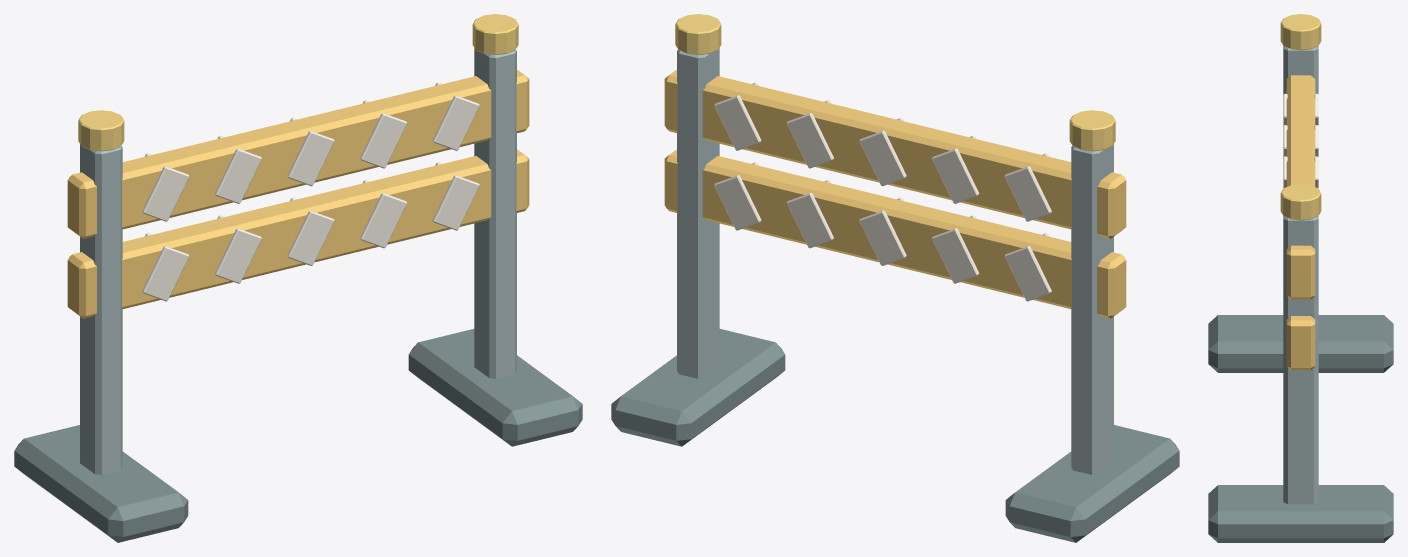
Rendered from Structure-RepairBarrier.fbx.
The picture shows the model from 3 angles, left to right: view 1: azimuth 30°, elevation 25°; view 2: azimuth 150°, elevation 25°; view 3: azimuth 270°, elevation 25°; orthographic projection. The views are drawn at different scales.
Visible parts, largest first — view 1: Cross Panel, Cross Panel.001, Diagonal Strip Mesh, Tapered Post.001, Tapered Post, Barrier Foot.001, Barrier Foot, Reflector Cap, Reflector Cap.001; view 2: Cross Panel, Cross Panel.001, Diagonal Strip Mesh, Tapered Post.001, Tapered Post, Barrier Foot.001, Barrier Foot, Reflector Cap, Reflector Cap.001; view 3: Barrier Foot.001, Barrier Foot, Tapered Post.001, Cross Panel.001, Cross Panel, Reflector Cap, Reflector Cap.001, Tapered Post, Diagonal Strip Mesh.
Part boxes in pixels (left/top/right/bottom): Cross Panel: left=67, top=149, right=529, bottom=318; Cross Panel.001: left=67, top=69, right=529, bottom=238; Diagonal Strip Mesh: left=142, top=82, right=479, bottom=301; Tapered Post.001: left=474, top=48, right=516, bottom=378; Tapered Post: left=80, top=144, right=122, bottom=474; Barrier Foot.001: left=408, top=329, right=582, bottom=446; Barrier Foot: left=14, top=425, right=188, bottom=542; Reflector Cap: left=78, top=110, right=124, bottom=151; Reflector Cap.001: left=472, top=14, right=518, bottom=54; Cross Panel: left=664, top=149, right=1126, bottom=318; Cross Panel.001: left=664, top=69, right=1126, bottom=238; Diagonal Strip Mesh: left=714, top=82, right=1051, bottom=301; Tapered Post.001: left=677, top=48, right=719, bottom=378; Tapered Post: left=1071, top=144, right=1113, bottom=474; Barrier Foot.001: left=611, top=329, right=785, bottom=446; Barrier Foot: left=1005, top=425, right=1179, bottom=542; Reflector Cap: left=1069, top=110, right=1115, bottom=151; Reflector Cap.001: left=675, top=14, right=721, bottom=54; Barrier Foot.001: left=1208, top=485, right=1393, bottom=542; Barrier Foot: left=1208, top=315, right=1393, bottom=372; Tapered Post.001: left=1283, top=216, right=1318, bottom=504; Cross Panel.001: left=1286, top=75, right=1315, bottom=299; Cross Panel: left=1286, top=316, right=1315, bottom=369; Reflector Cap: left=1280, top=14, right=1321, bottom=50; Reflector Cap.001: left=1280, top=184, right=1321, bottom=220; Tapered Post: left=1283, top=46, right=1318, bottom=94; Diagonal Strip Mesh: left=1283, top=93, right=1318, bottom=188.
Bounding box in the file's own units: 1.31 × 1.01 × 0.5.
